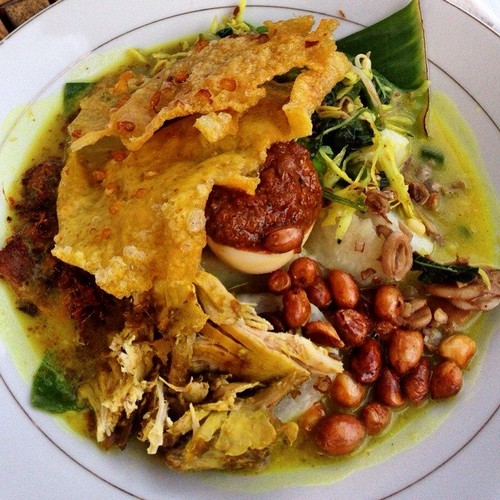tipat blayag: (10, 30, 500, 439)
